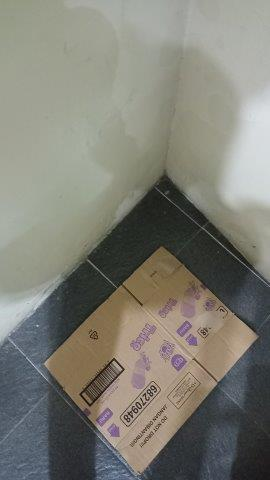kardus: (46, 248, 258, 473)
